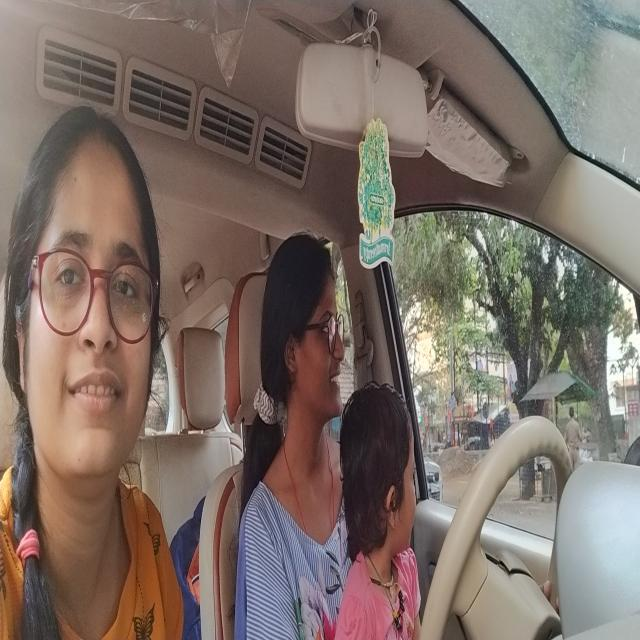child: (340, 382, 422, 574)
person: (0, 96, 177, 499), (260, 222, 349, 436)
